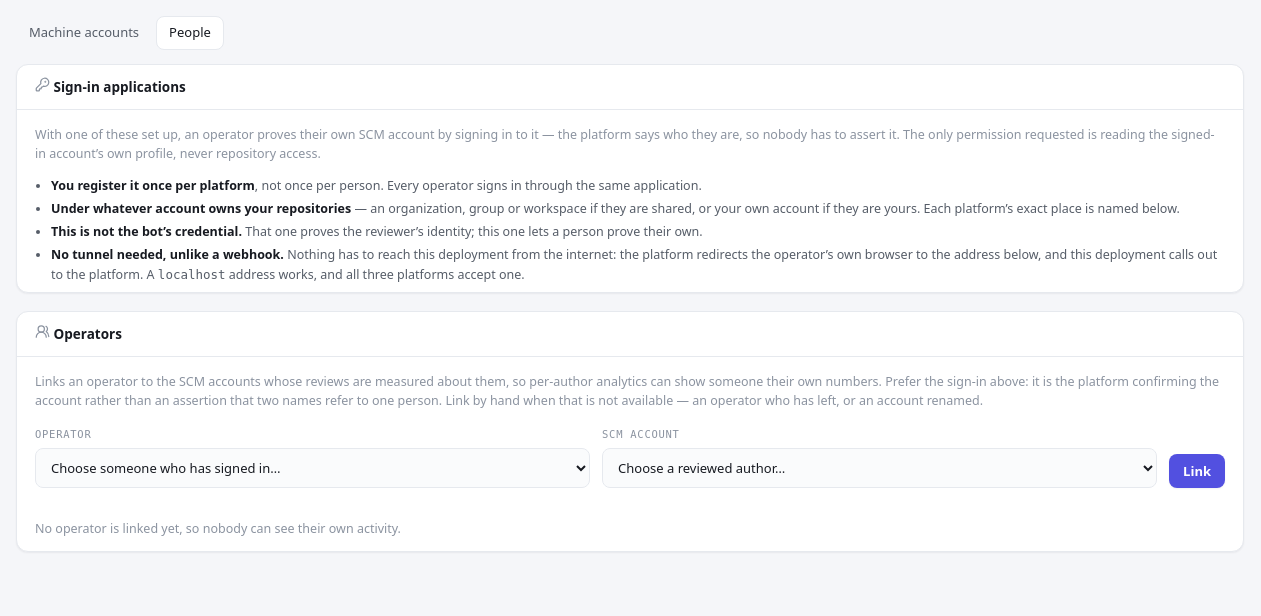
Test: SettingsOperators › surfaces a rejected mapping instead of appearing to have saved it
The image size is (1261, 616).
Select "TEST Operator Nine · test-user-nine" in the dropdown labelled "Operator". click: (312, 468)
box: [35,448,590,488]
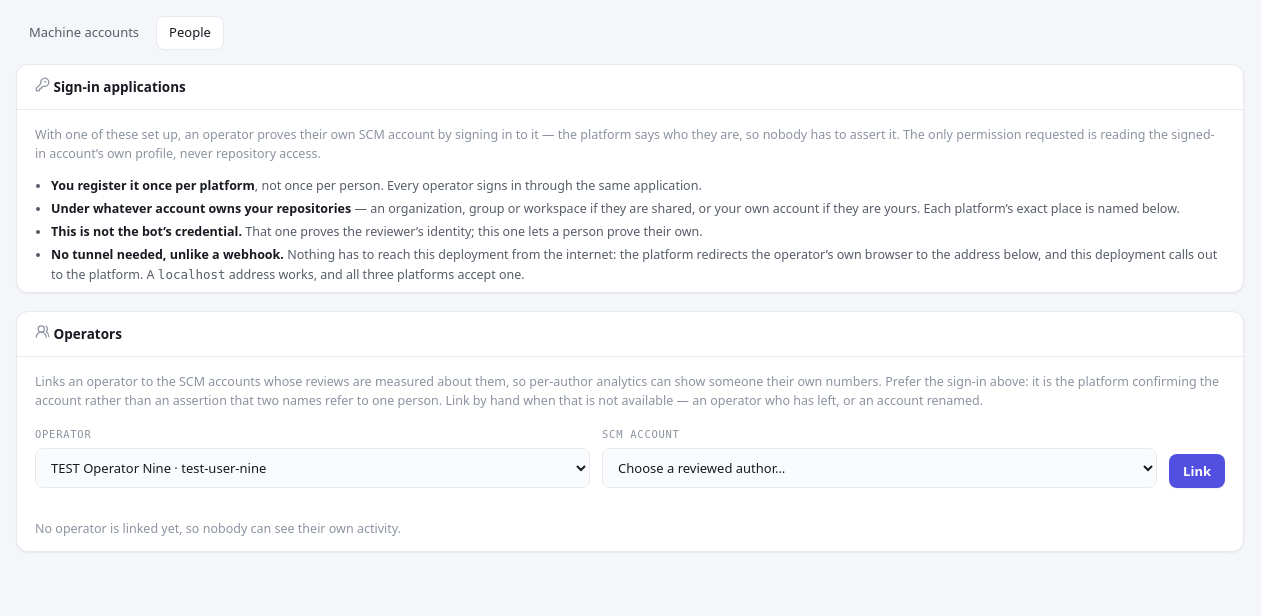
Select "TEST-AUTHOR-A · github · 21 reviews" in the dropdown labelled "SCM account". click: (880, 468)
box: [602,448,1157,488]
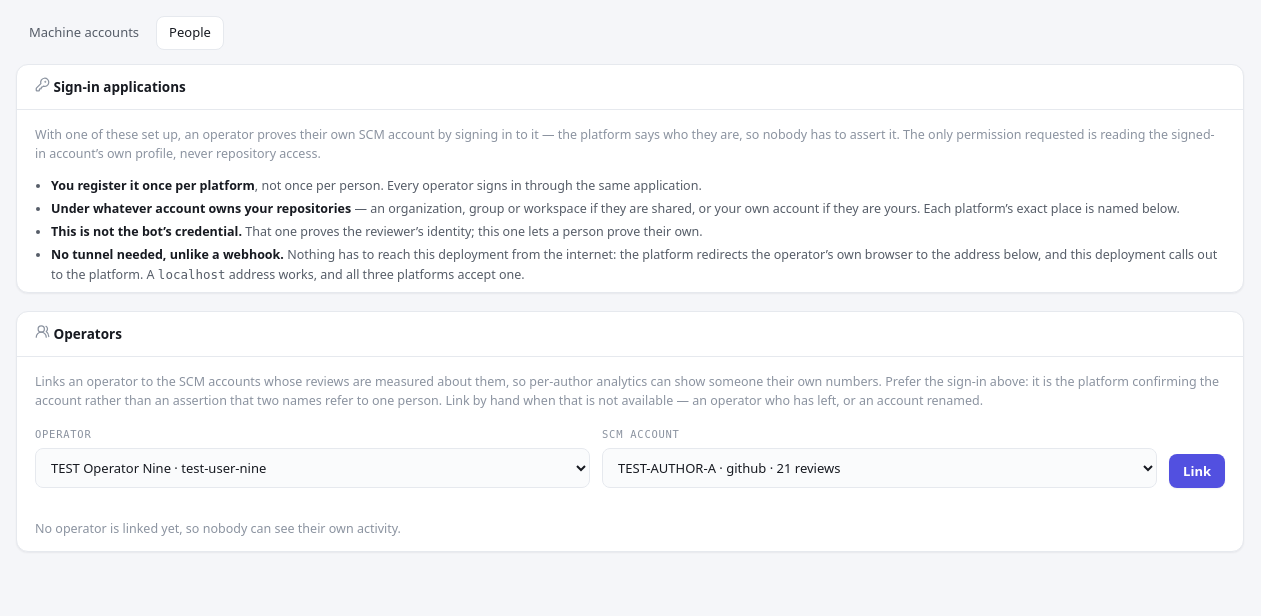
Submit the form with class "op-form", box [17,422,1243,504]
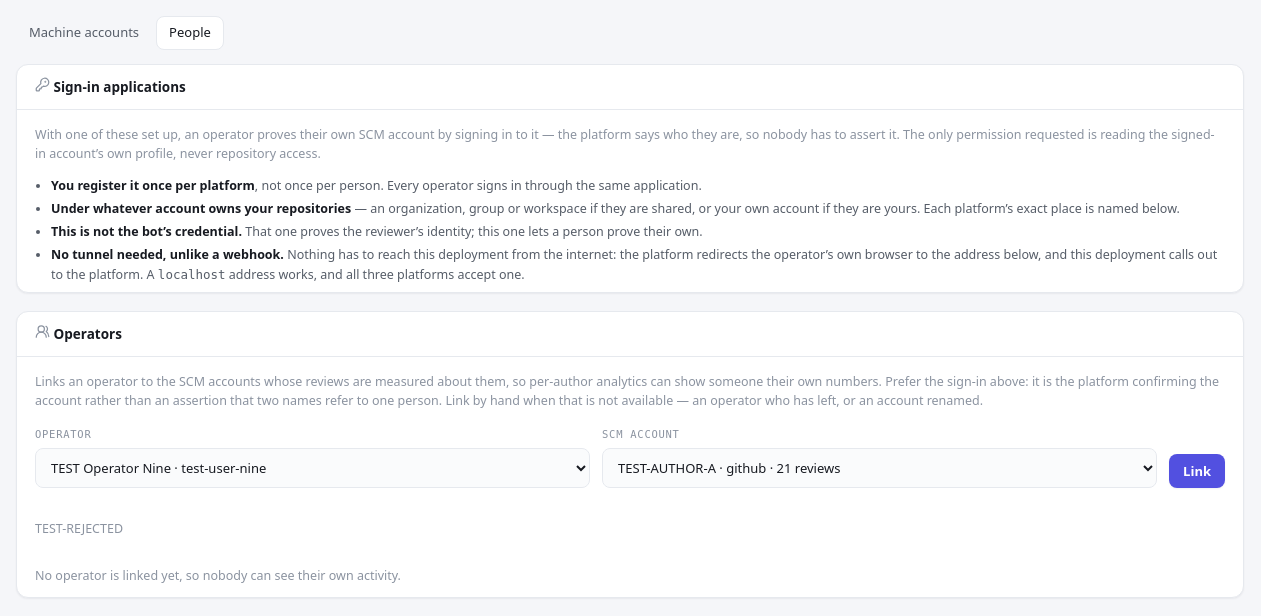
Result: the message reads "TEST-REJECTED" at [35,520,123,537]
